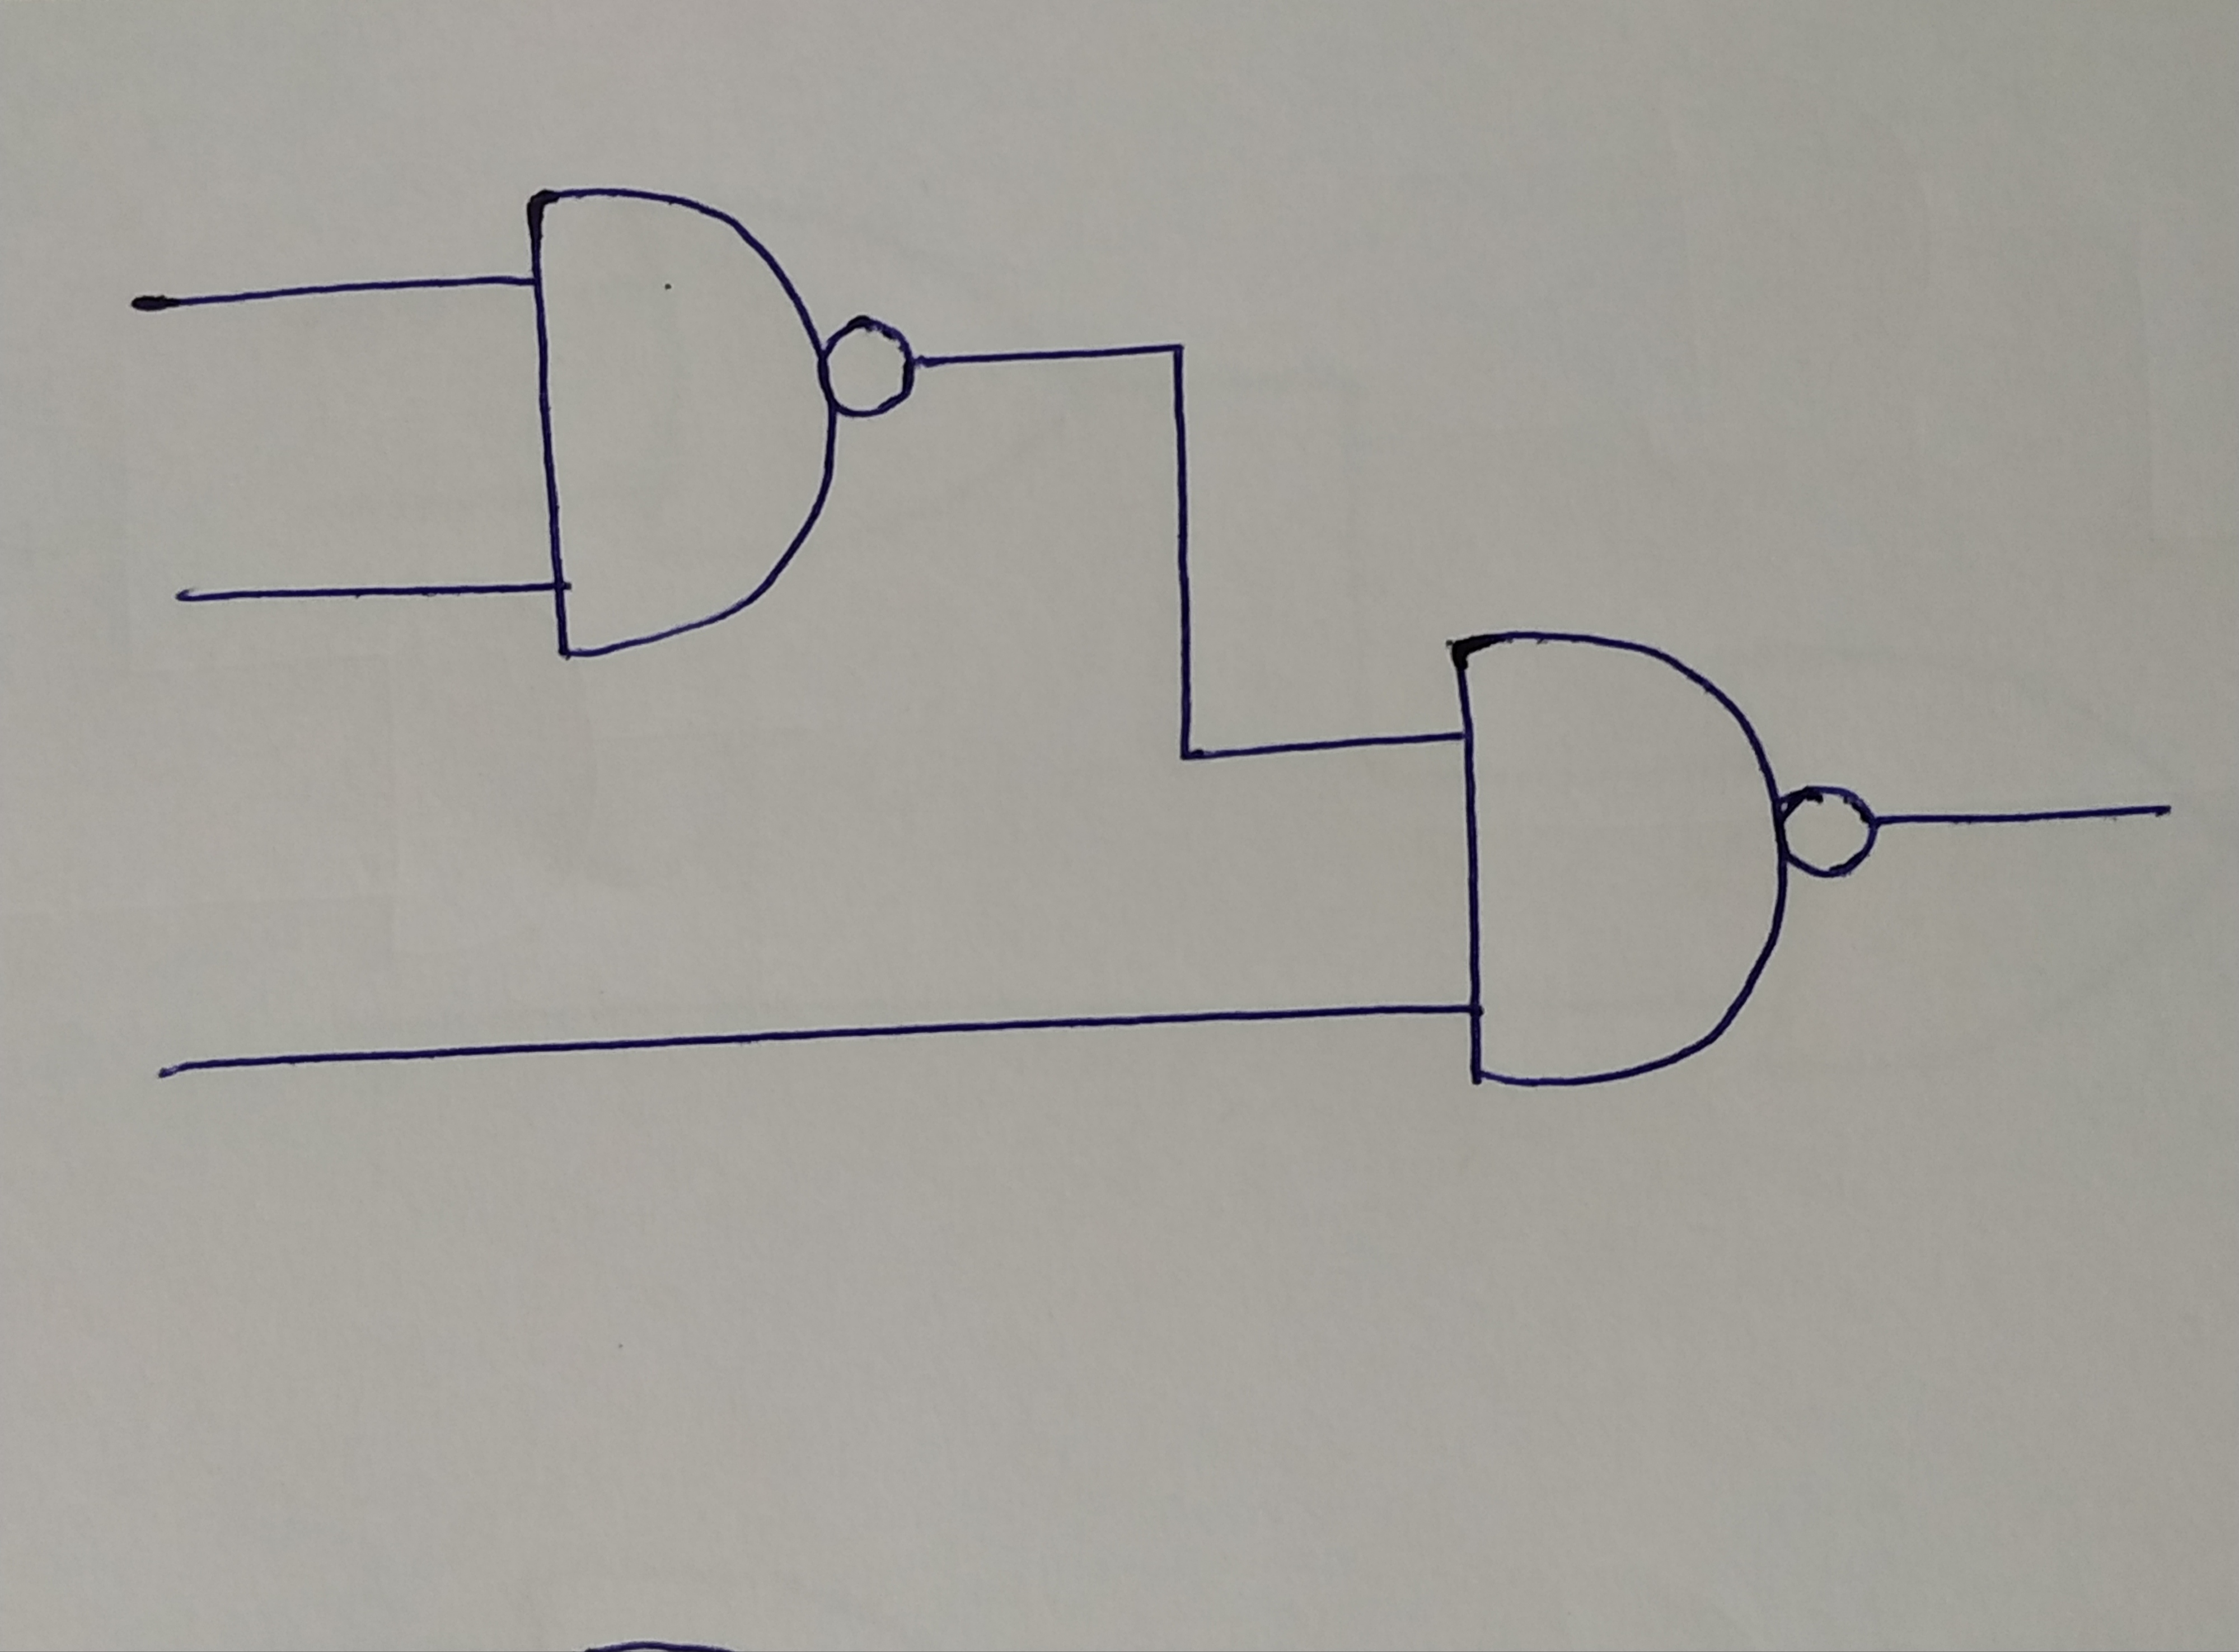and: (1448, 640, 1778, 1090), (527, 177, 827, 654)
not: (824, 318, 914, 419), (1787, 779, 1876, 878)
